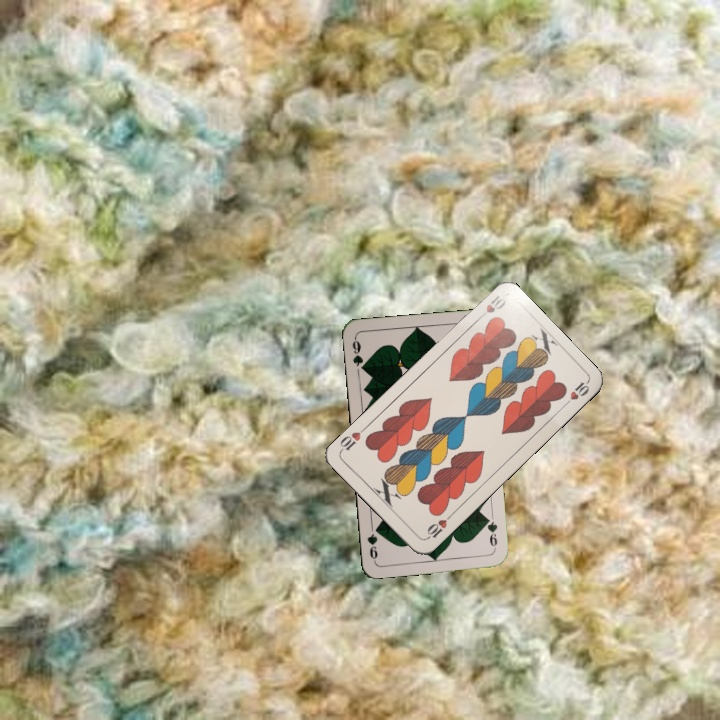G9: (348, 334, 368, 374), (482, 513, 500, 552)
H10: (473, 291, 508, 323), (422, 510, 455, 542)
